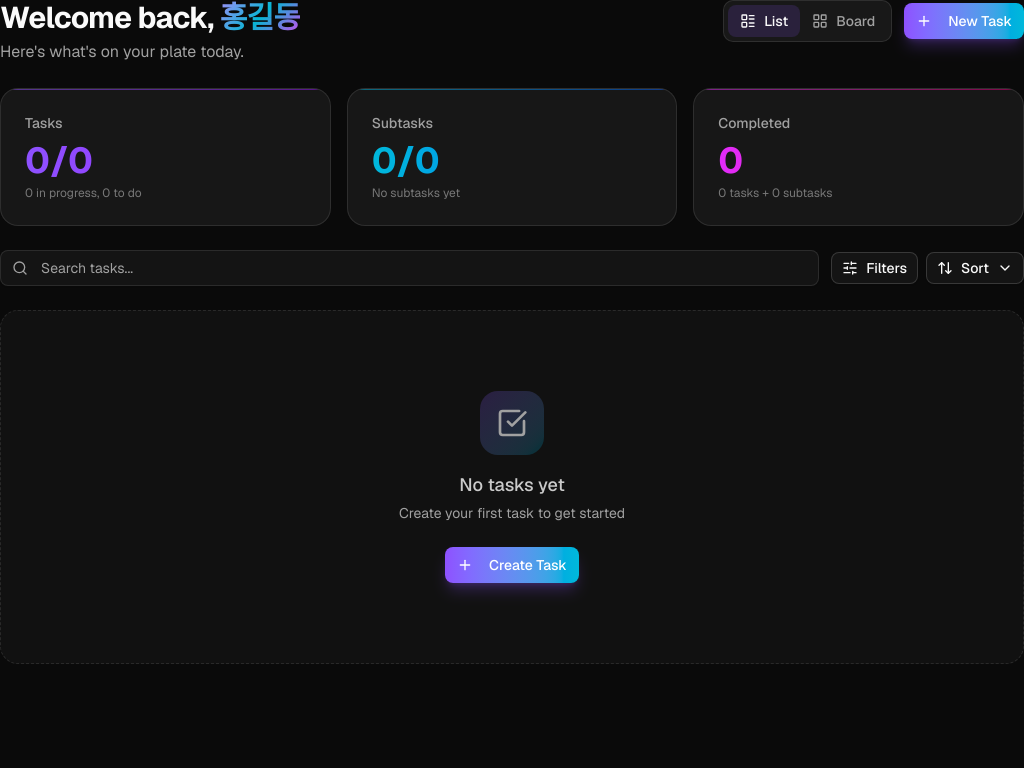
TaskListView 컴포넌트 › 빈 상태 테스트 › 빈 상태에서 태스크 생성 버튼을 렌더링한다
The image size is (1024, 768).
// 생성 버튼 클릭 시 폼이 열려야 함
Click the button "Create Task".
click(512, 565)  # box [445,547,579,583]
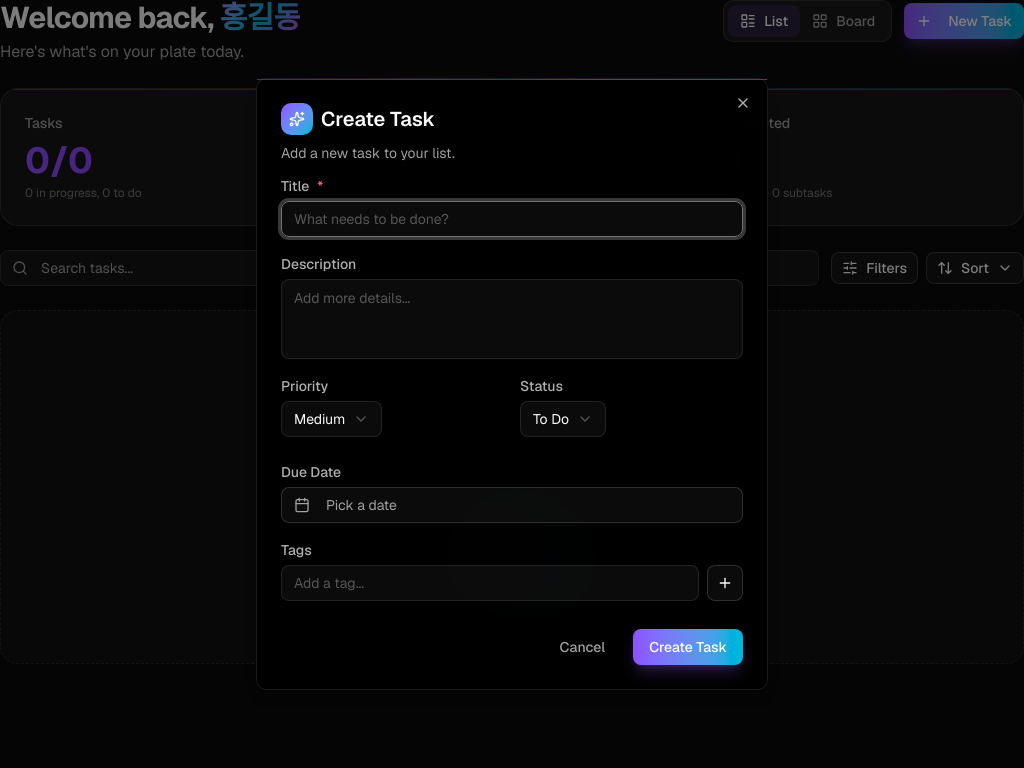
Now the text "Add a new task to your list." is shown, box [281,144,455,162]
